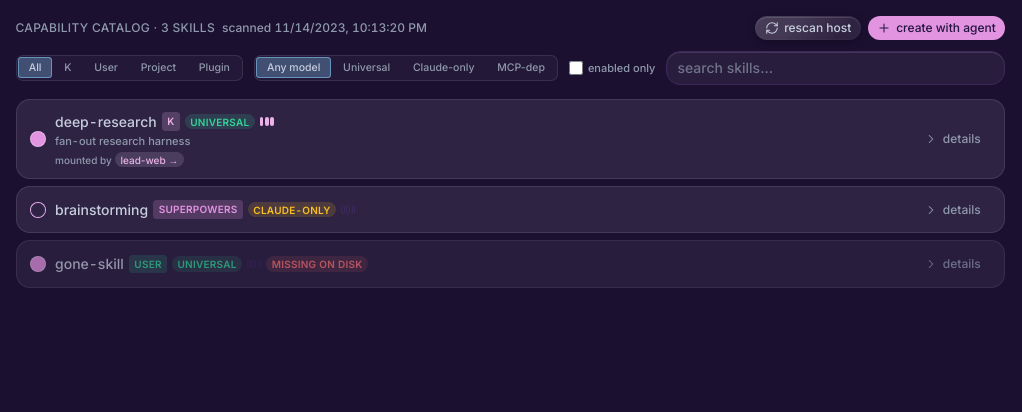
CatalogTab — rows › the details preview exposes the SKILL.md path read-only
Click the button with test id "catalog-preview-toggle-deep-research" at (952, 139), box left=915, top=127, right=990, bottom=151
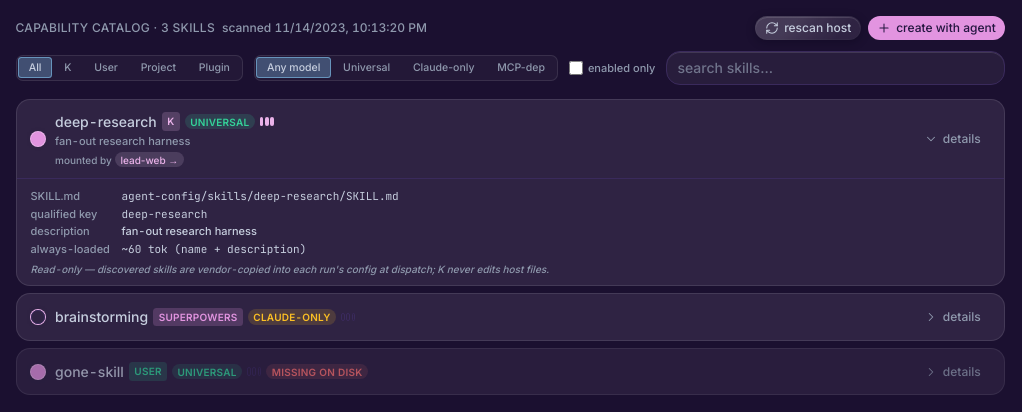
expect the element with test id "catalog-preview-deep-research" shows "agent-config/skills/deep-research/SKILL.md": met, box left=122, top=189, right=399, bottom=203
expect the element with test id "catalog-preview-deep-research" shows "Read-only": met, box left=30, top=263, right=549, bottom=275
